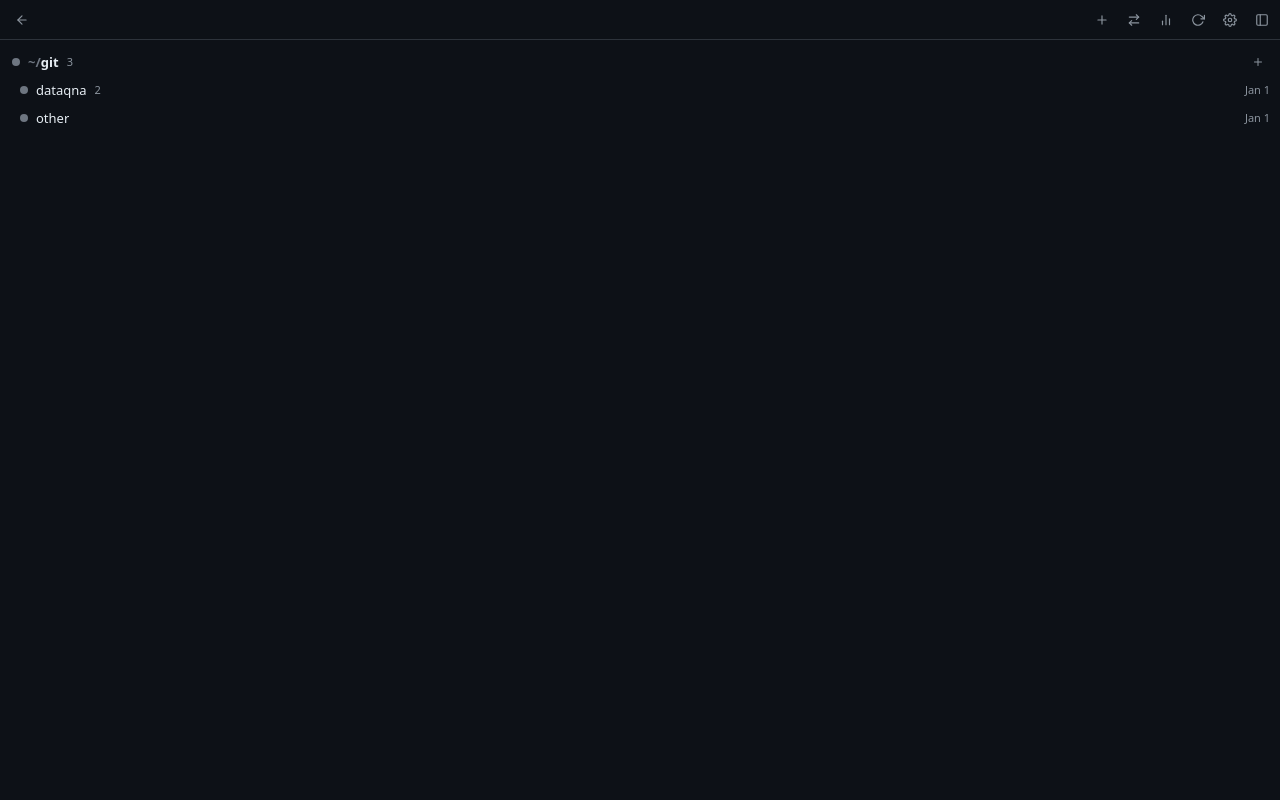
SessionTree — stopping every session in a folder › a rejected kill counts as a failed session and the batch continues
This screenshot has width=1280, height=800.
Right-click the button with class "dir-header" showing "dataqna 2 Jan 1".
right_click(61, 90)  # box top-left (0, 76), bottom-right (1279, 104)
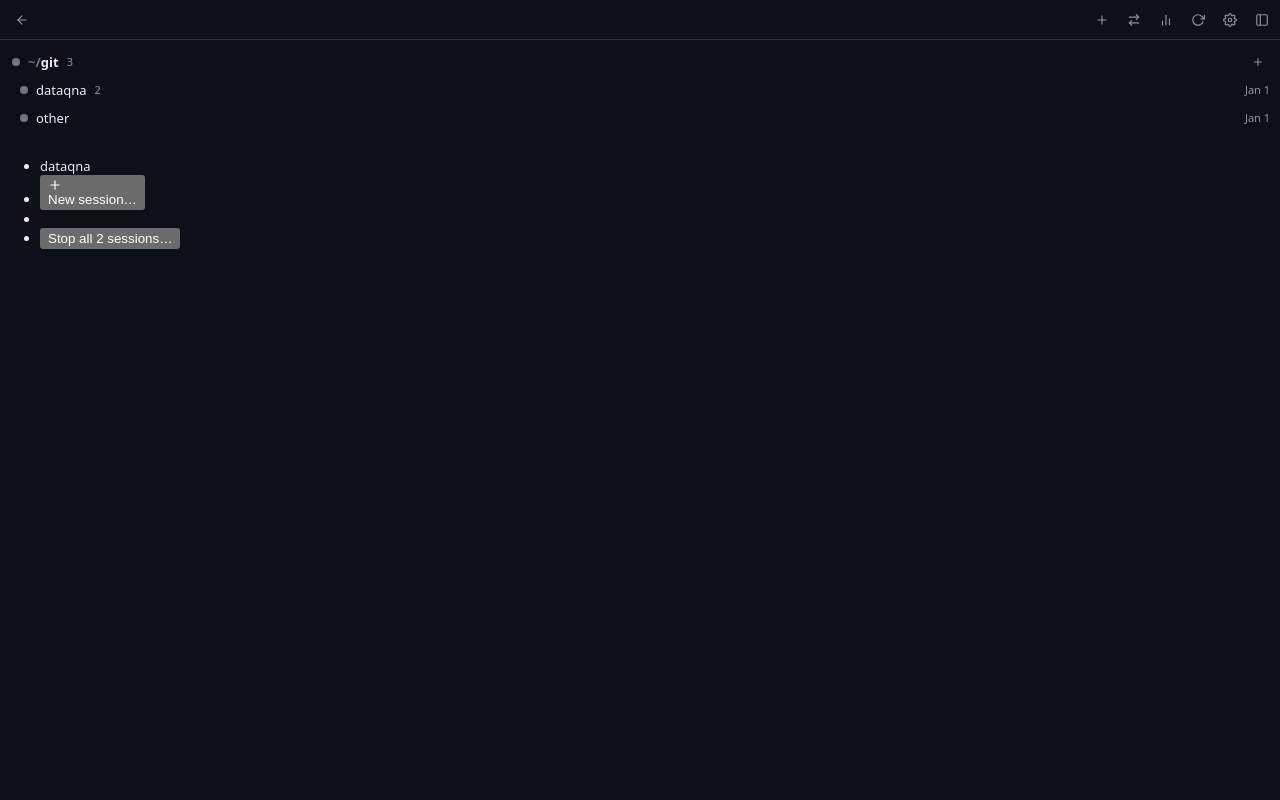
Click the button with class "danger".
click(110, 238)  # box top-left (40, 228), bottom-right (180, 249)
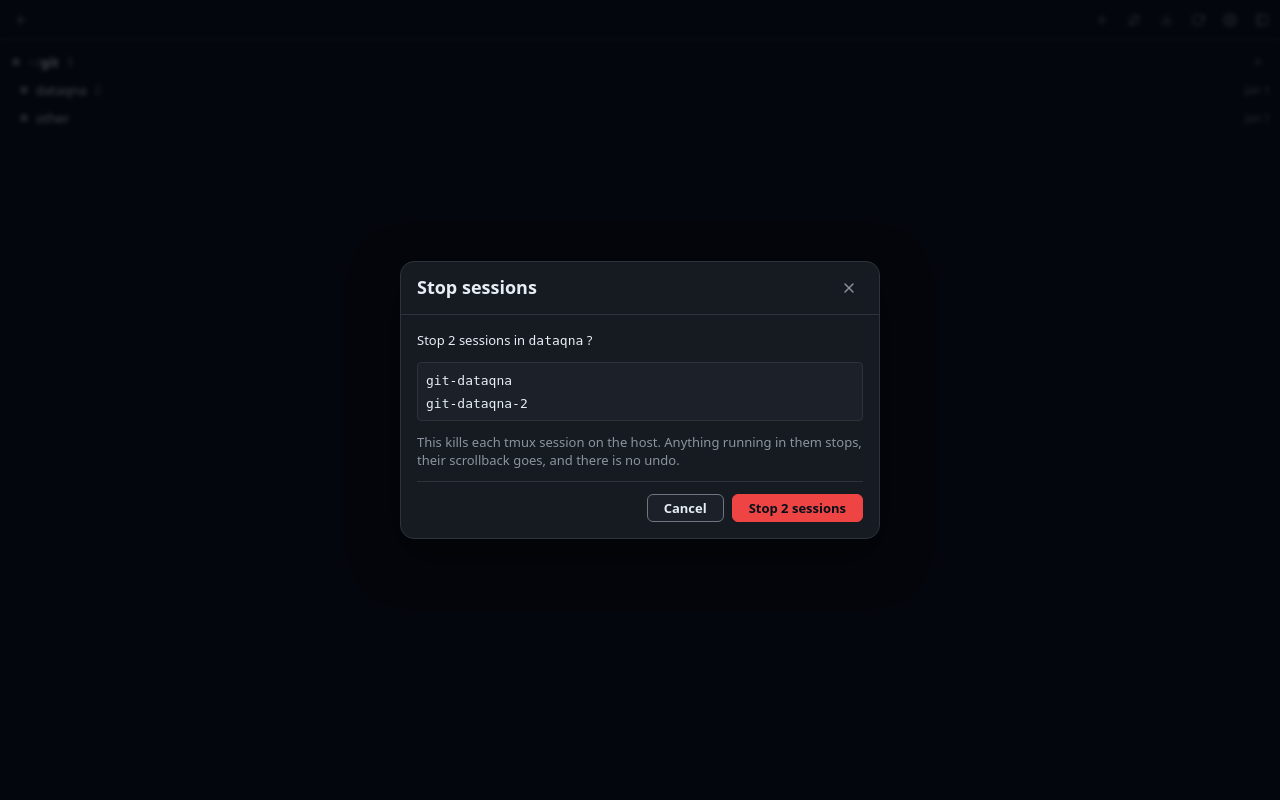
Click the button with class "btn-danger".
click(797, 508)  # box top-left (732, 494), bottom-right (863, 522)
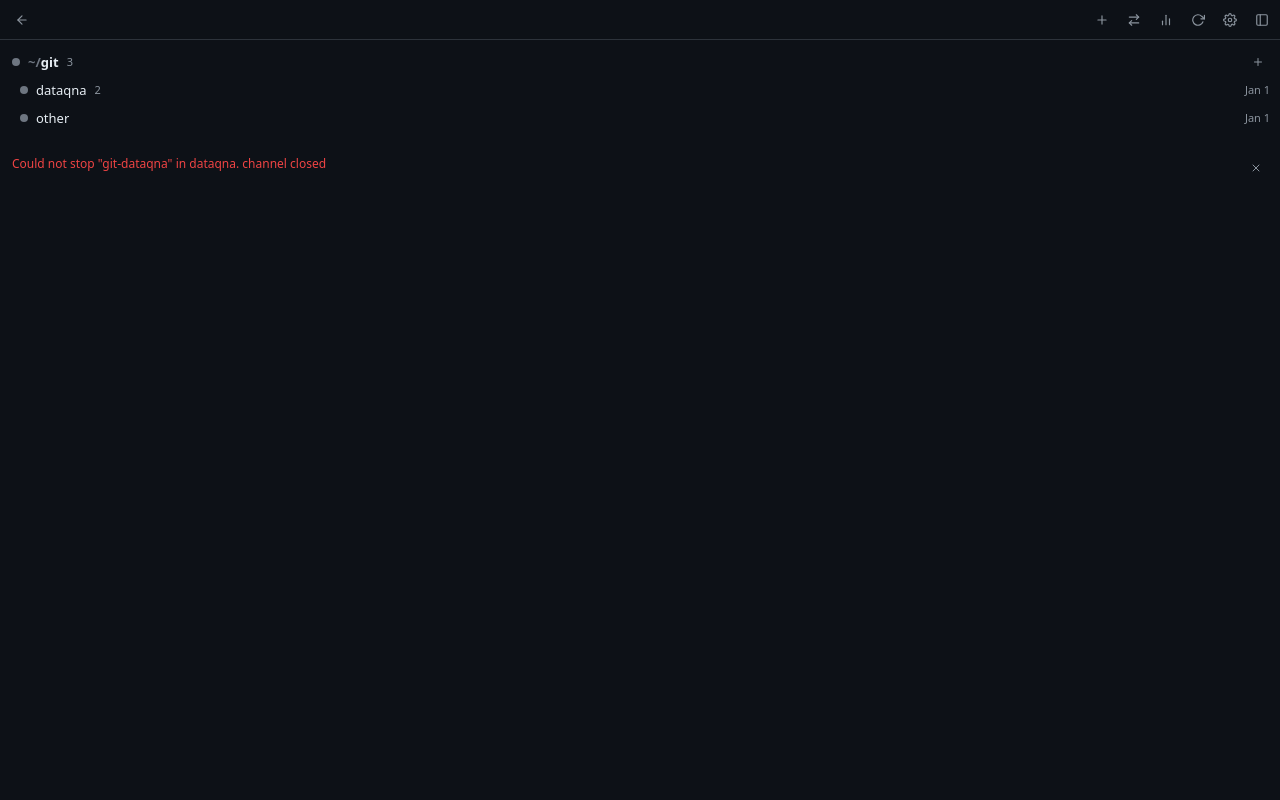
Expected: the element with class "stop-error" shows "Could not stop \"git-dataqna\" in dataqna.", top-left (12, 155), bottom-right (326, 172)
Expected: the element with class "stop-error" shows "channel closed", top-left (12, 155), bottom-right (326, 172)
